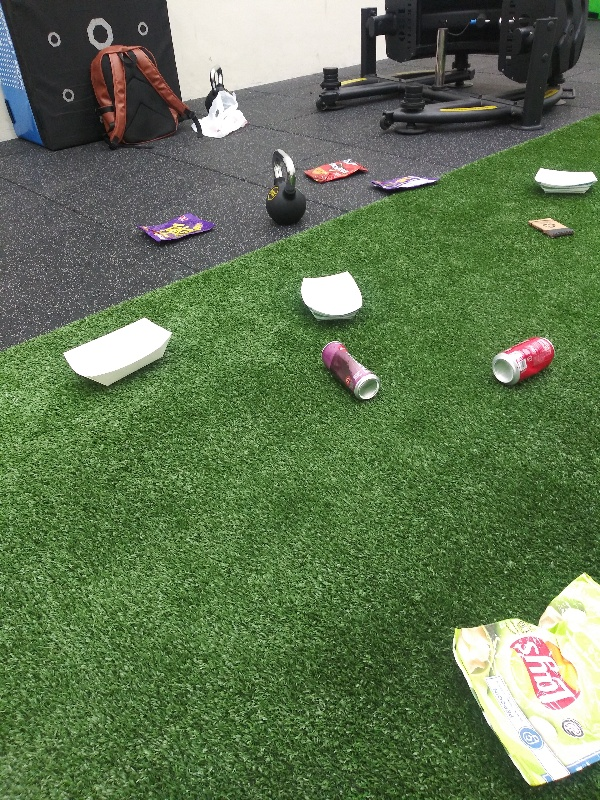bag: (448, 571, 595, 791), (134, 206, 214, 247), (303, 154, 371, 183), (371, 170, 441, 197)
can: (315, 335, 381, 405), (488, 332, 562, 388)
plate: (58, 311, 176, 390), (291, 269, 365, 325), (529, 162, 597, 201)
